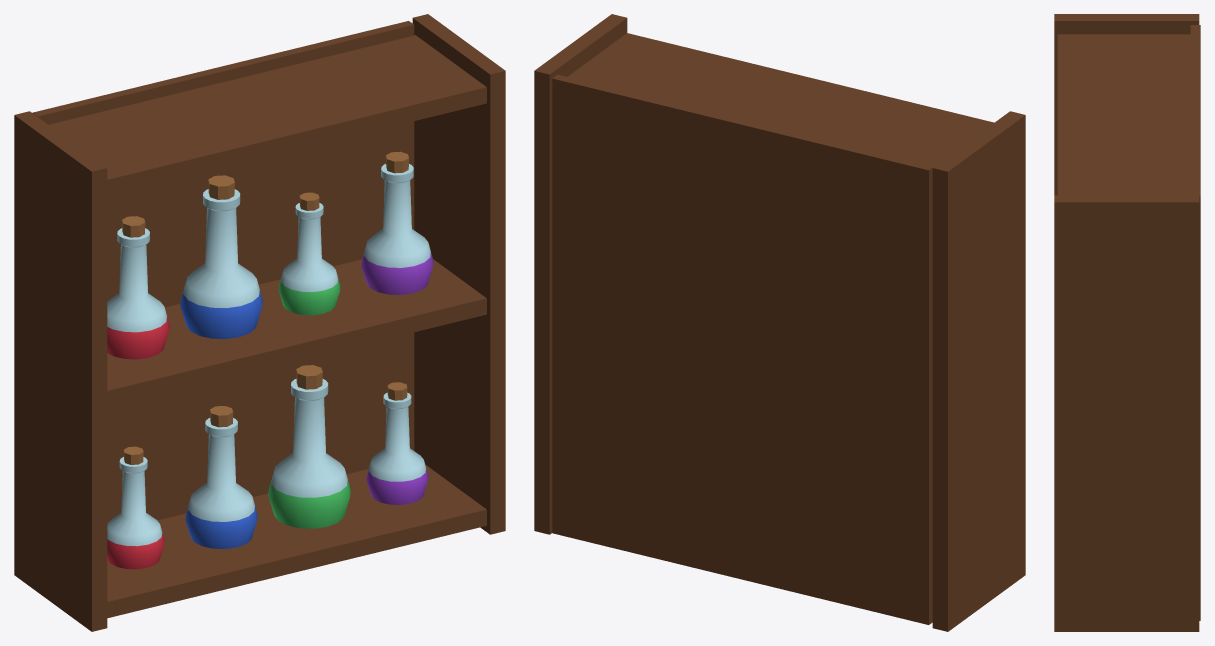
Rendered from potion-shelf.glb.
The picture shows the model from 3 angles, left to right: view 1: azimuth 30°, elevation 25°; view 2: azimuth 150°, elevation 25°; view 3: azimuth 270°, elevation 25°; orthographic projection. The views are drawn at different scales.
Visible parts, largest first — view 1: Shelf, Potion glass, Potions B, Potions C, Potion corks, Potions D, Potions A; view 2: Shelf; view 3: Shelf.
Boxes of the visible parts, box(x1,y1,x2,y2) form: Shelf: box(14, 14, 505, 631); Potion glass: box(107, 164, 430, 546); Potions B: box(180, 289, 262, 548); Potions C: box(268, 278, 350, 528); Potion corks: box(122, 151, 408, 464); Potions D: box(361, 251, 433, 504); Potions A: box(107, 317, 169, 569); Shelf: box(534, 14, 1025, 631); Shelf: box(1054, 14, 1200, 631).
Bounding box in the file's own units: 0.8 × 0.85 × 0.262.
